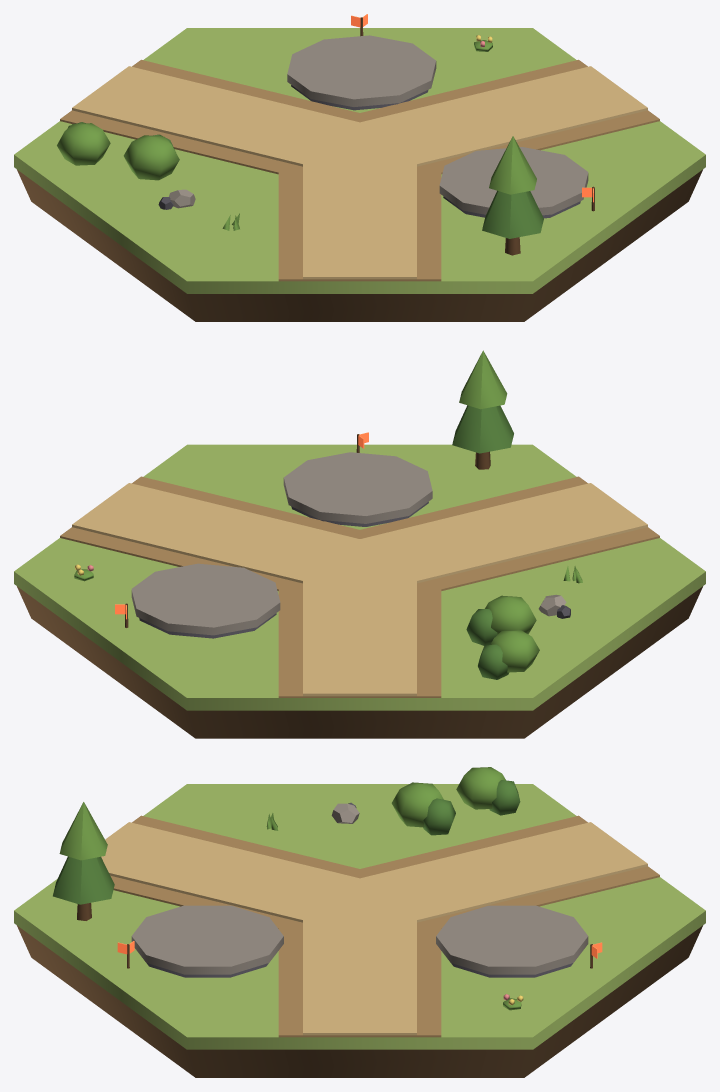
File: tile_battleFork.glb
The picture shows the model from 3 angles, top to bottom: view 1: azimuth 30°, elevation 25°; view 2: azimuth 150°, elevation 25°; view 3: azimuth 270°, elevation 25°; orthographic projection.
Parts seen in each view (by area): view 1: ground, road, ground_soil, tower_slot_1_plate, tower_slot_2_plate, road_surface_hub, deco_tree_3_crown, deco_bush_0_a, deco_bush_5_a, deco_tree_3_crown_b; view 2: ground, road, ground_soil, tower_slot_1_plate, tower_slot_2_plate, road_surface_hub, deco_tree_3_crown, deco_tree_3_crown_b, deco_bush_0_a, deco_bush_5_a, deco_bush_5_b, deco_bush_0_b; view 3: ground, road, ground_soil, tower_slot_1_plate, tower_slot_2_plate, deco_tree_3_crown, road_surface_hub, deco_tree_3_crown_b, deco_bush_0_a, deco_bush_5_a, deco_bush_0_b, deco_bush_5_b.
Part boxes in pixels (box(x1,y1,x2,y2)): ground: box(14, 28, 705, 293); road: box(60, 59, 659, 281); ground_soil: box(17, 169, 702, 321); tower_slot_1_plate: box(287, 35, 436, 106); tower_slot_2_plate: box(439, 147, 588, 215); road_surface_hub: box(303, 126, 416, 174); deco_tree_3_crown: box(482, 190, 543, 238); deco_bush_0_a: box(123, 135, 179, 180); deco_bush_5_a: box(57, 123, 110, 165); deco_tree_3_crown_b: box(489, 136, 536, 194); ground: box(14, 444, 705, 710); road: box(60, 476, 659, 697); ground_soil: box(17, 586, 702, 738); tower_slot_1_plate: box(131, 563, 280, 635); tower_slot_2_plate: box(283, 452, 432, 523); road_surface_hub: box(303, 543, 416, 590); deco_tree_3_crown: box(452, 405, 513, 453); deco_tree_3_crown_b: box(459, 350, 507, 409); deco_bush_0_a: box(485, 595, 536, 634); deco_bush_5_a: box(490, 630, 539, 672); deco_bush_5_b: box(478, 644, 509, 679); deco_bush_0_b: box(466, 609, 497, 645); ground: box(14, 784, 705, 1049); road: box(101, 815, 659, 1037); ground_soil: box(17, 925, 702, 1077); tower_slot_1_plate: box(436, 905, 588, 974); tower_slot_2_plate: box(131, 905, 283, 974); deco_tree_3_crown: box(53, 856, 114, 904); road_surface_hub: box(303, 882, 416, 923); deco_tree_3_crown_b: box(59, 802, 107, 860); deco_bush_0_a: box(391, 782, 443, 827); deco_bush_5_a: box(456, 767, 505, 809); deco_bush_0_b: box(423, 798, 455, 835); deco_bush_5_b: box(489, 780, 520, 815).
Size of the model in its own units: 1.73 by 0.5215 by 2.
